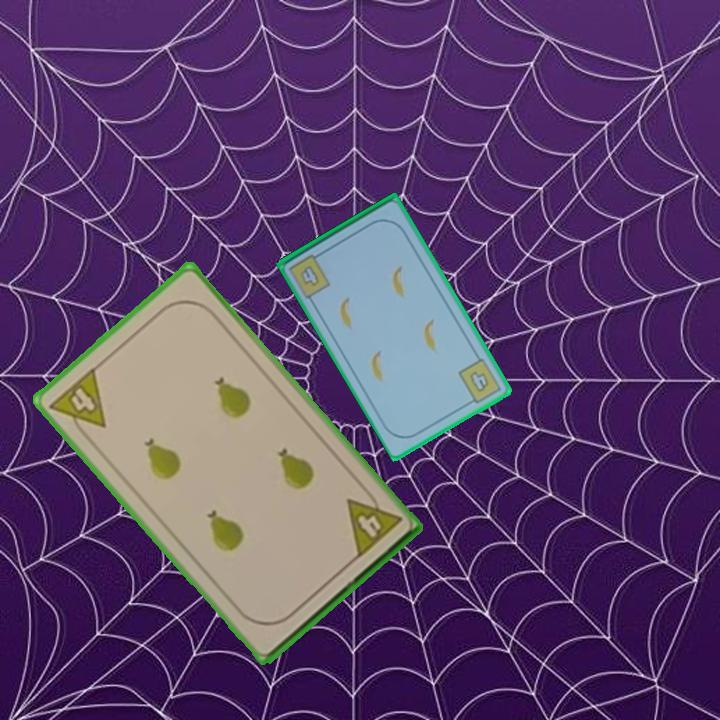4b: (455, 354, 505, 408), (297, 262, 323, 290)
4p: (45, 363, 109, 444), (340, 483, 404, 562)
